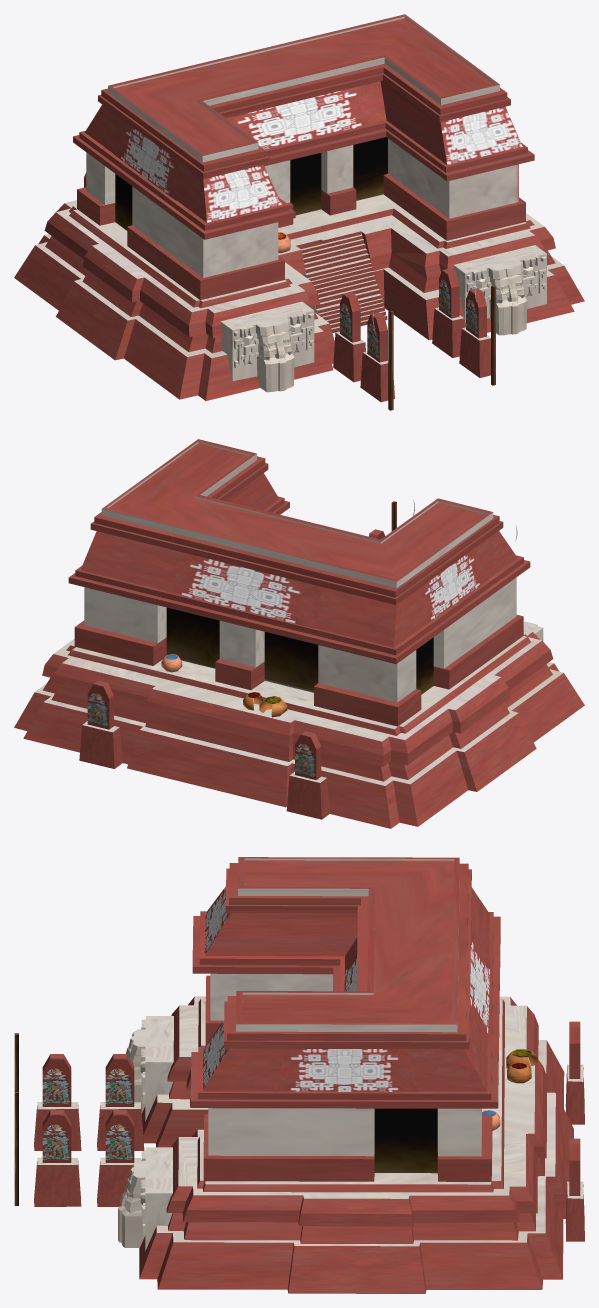
The picture shows the model from 3 angles, top to bottom: view 1: azimuth 30°, elevation 25°; view 2: azimuth 150°, elevation 25°; view 3: azimuth 270°, elevation 25°; orthographic projection. The views are drawn at different scales.
Visible parts, largest first — view 1: cc_2; view 2: cc_2; view 3: cc_2.
Boxes of the visible parts, box(x1,y1,x2,y2) form: cc_2: box(14, 14, 584, 410); cc_2: box(14, 439, 584, 828); cc_2: box(14, 857, 584, 1293).
Size of the model in its own units: 29.17 by 29.65 by 13.65.
